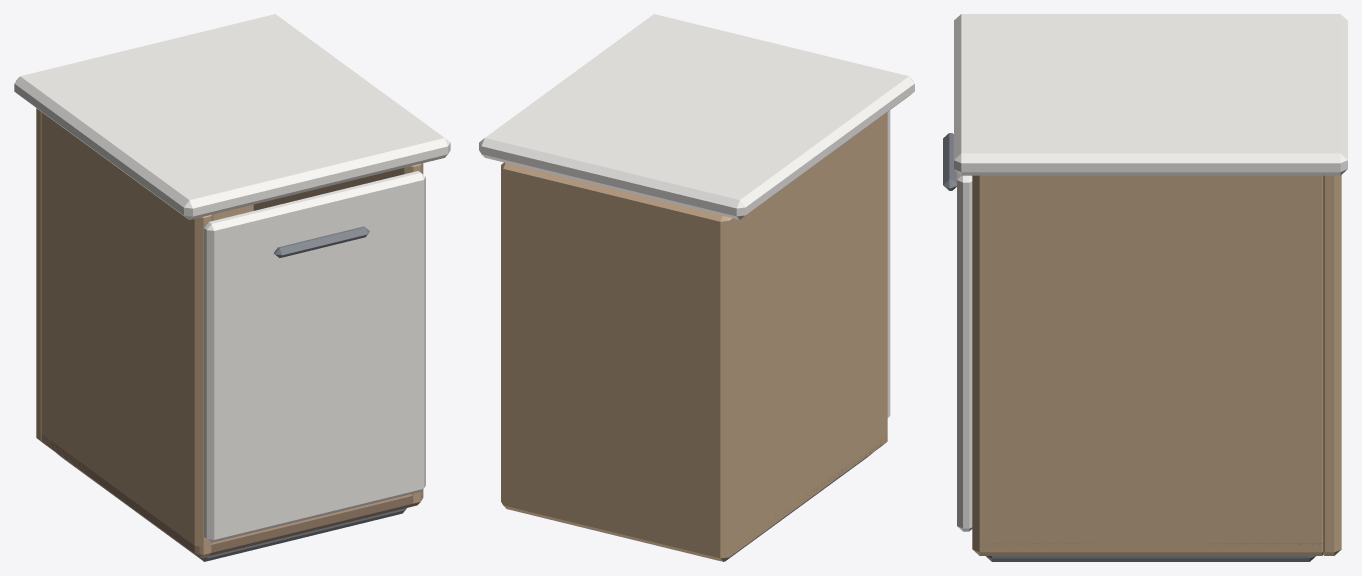
The model's file is PullOutTrashCabinet.glb.
The picture shows the model from 3 angles, left to right: view 1: azimuth 30°, elevation 25°; view 2: azimuth 150°, elevation 25°; view 3: azimuth 270°, elevation 25°; orthographic projection. The views are drawn at different scales.
Parts seen in each view (by area): view 1: TrashCabinet_Carcass, TrashCabinet_Bins; view 2: TrashCabinet_Carcass, TrashCabinet_Bins; view 3: TrashCabinet_Carcass, TrashCabinet_Bins.
Part boxes in pixels (x1,y1,x2,y2): TrashCabinet_Carcass: [14, 14, 450, 561]; TrashCabinet_Bins: [204, 171, 425, 542]; TrashCabinet_Carcass: [479, 14, 914, 561]; TrashCabinet_Bins: [887, 110, 890, 417]; TrashCabinet_Carcass: [954, 14, 1347, 561]; TrashCabinet_Bins: [943, 133, 972, 531].
Size of the model in its own units: 0.56 by 0.76 by 0.6575.
